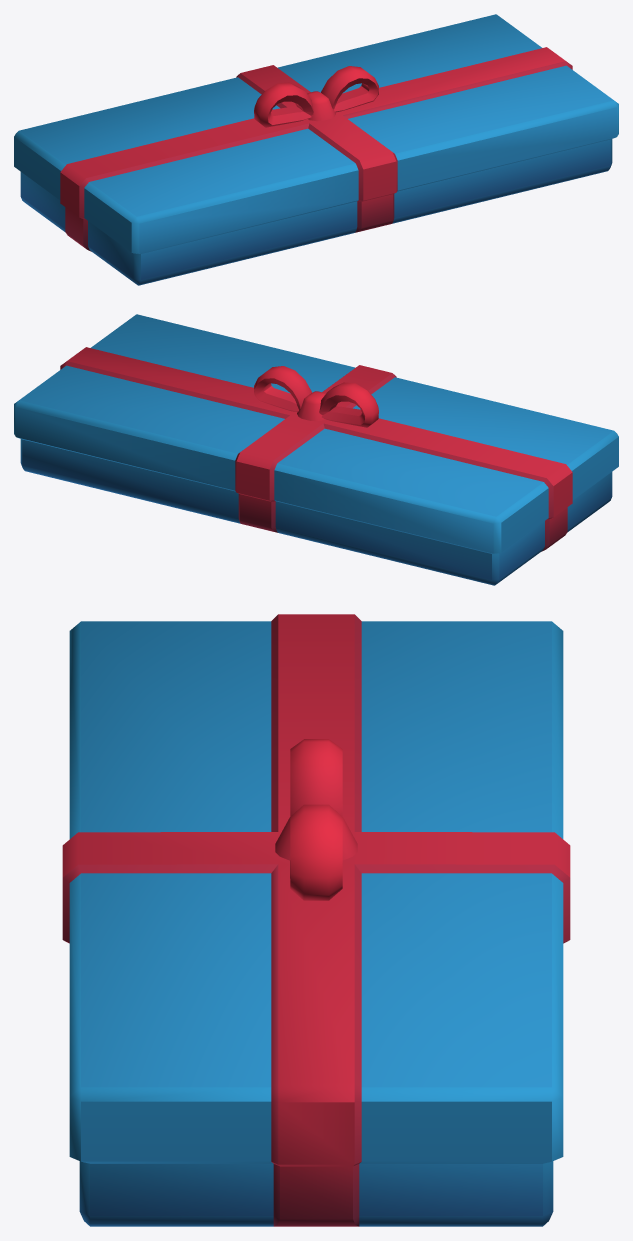
File: present_F_blue.fbx
3 views of the same model, one above another, from view 1: azimuth 30°, elevation 25°; view 2: azimuth 150°, elevation 25°; view 3: azimuth 270°, elevation 25° (orthographic). The views are drawn at different scales.
Visible parts, largest first — view 1: present_F_blue; view 2: present_F_blue; view 3: present_F_blue.
Part boxes in pixels (<box>): present_F_blue: <box>14,14,618,285</box>; present_F_blue: <box>14,314,618,585</box>; present_F_blue: <box>62,614,570,1226</box>.
Bounding box in the file's own units: 216 × 46.17 × 96.38.
